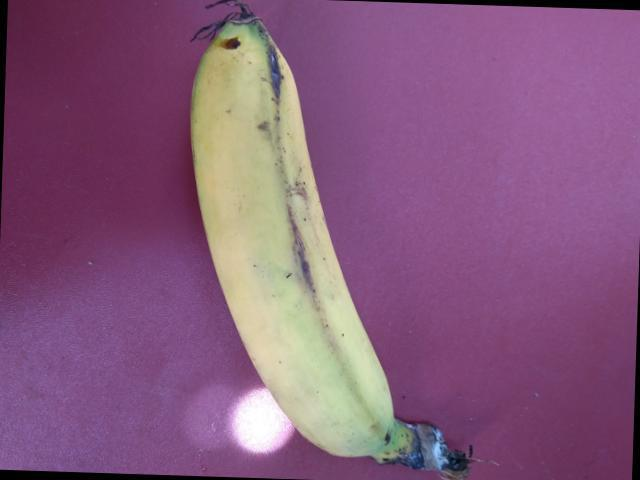ripe: (171, 0, 406, 475)
